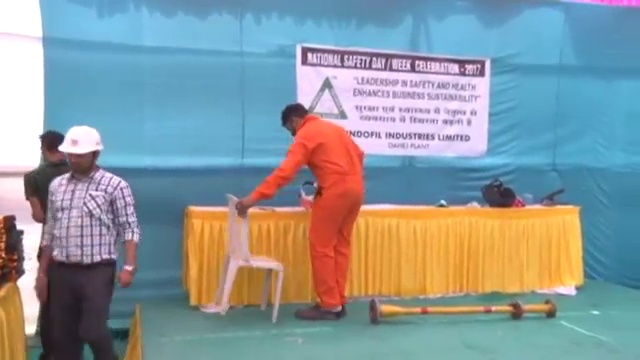helmet: (56, 124, 106, 153)
helmet_off: (281, 101, 311, 140), (37, 129, 64, 164)
helmet_on: (55, 125, 105, 175)
person: (242, 101, 366, 330), (35, 123, 142, 360), (25, 128, 71, 228)
